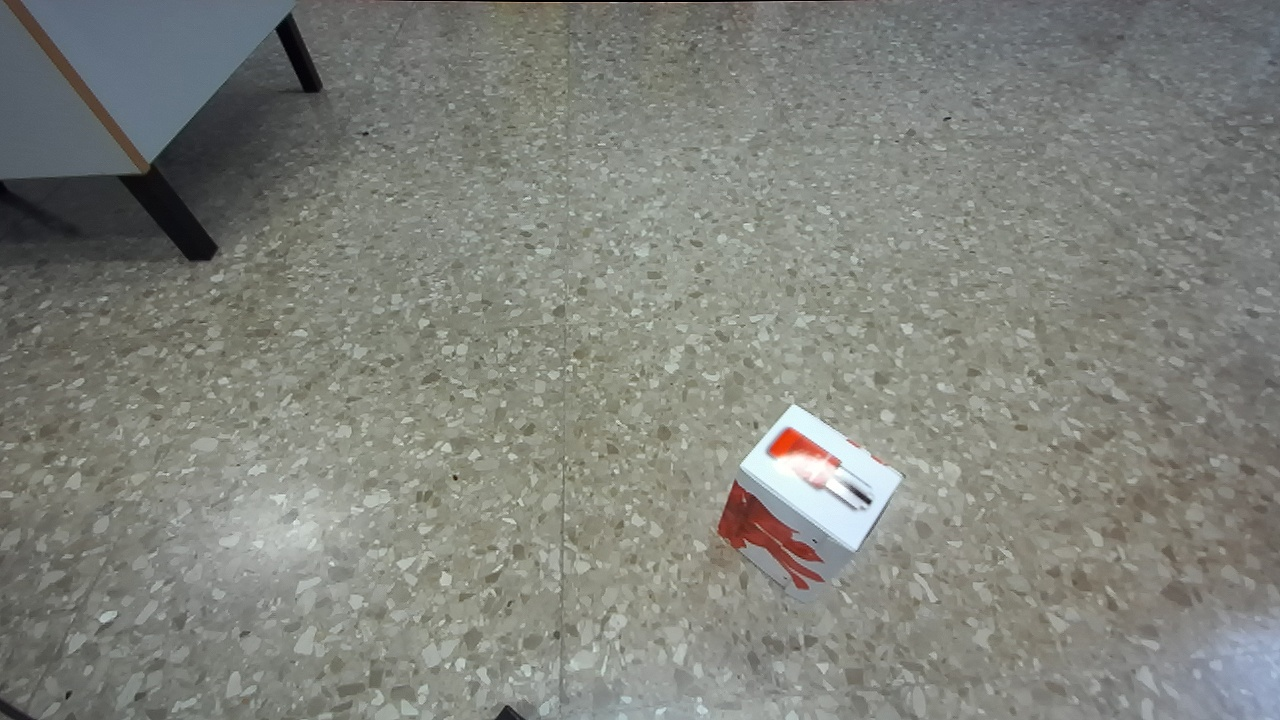caja_potencia: (718, 405, 901, 601)
